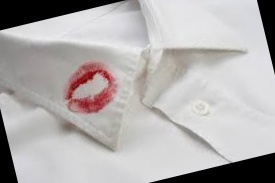lipstick: (52, 61, 122, 125)
